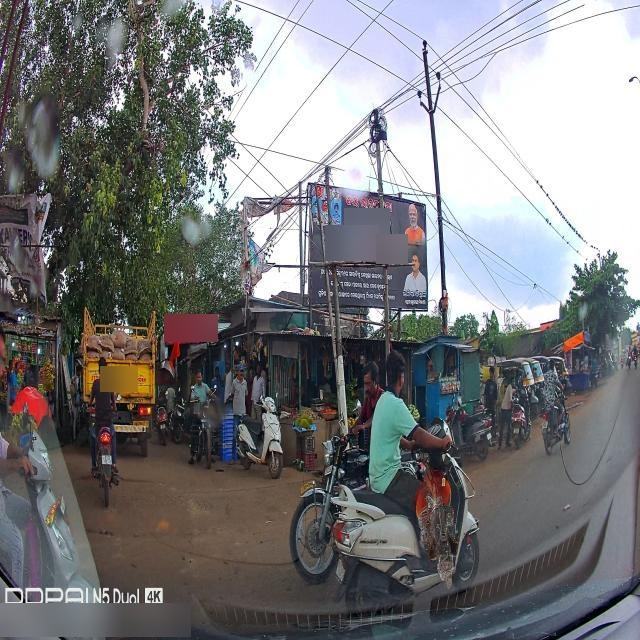pothole: (566, 401, 587, 409)
